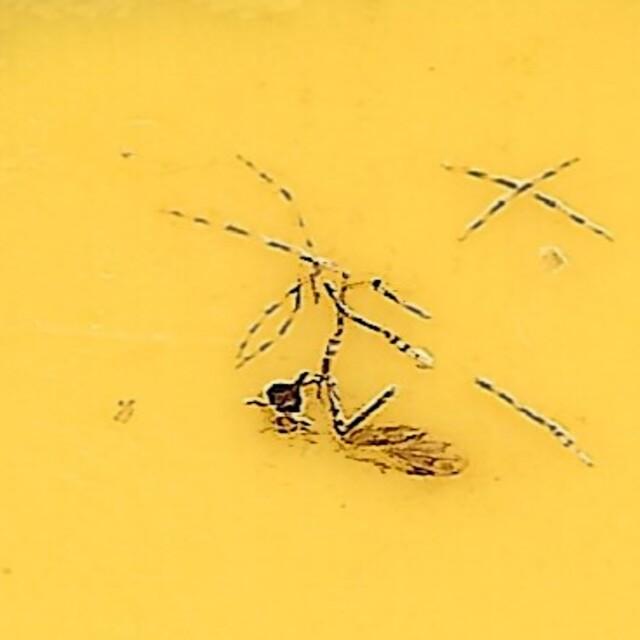Nematocera: (174, 149, 466, 491)
